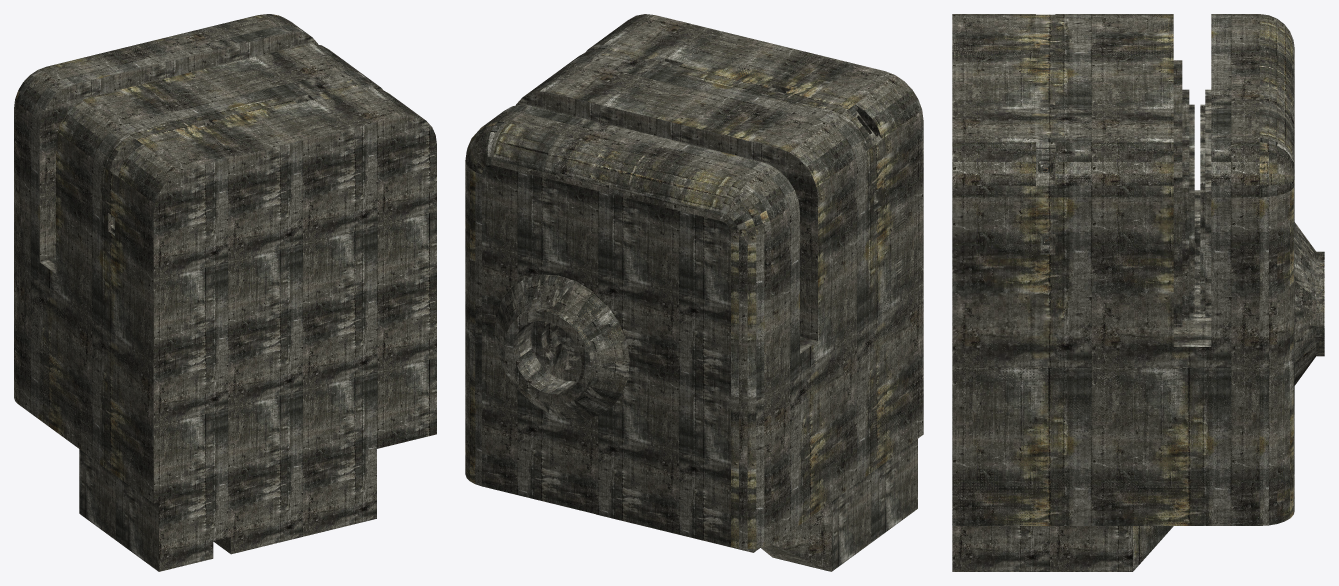
Rendered from Bunker.dae.
The picture shows the model from 3 angles, left to right: view 1: azimuth 30°, elevation 25°; view 2: azimuth 150°, elevation 25°; view 3: azimuth 270°, elevation 25°; orthographic projection. The views are drawn at different scales.
Parts seen in each view (by area): view 1: group_0 (×4); view 2: group_0 (×7); view 3: group_0 (×6).
Part boxes in pixels (box(x1,y1,x2,y2)): group_0 (×4): box(14, 14, 436, 571); group_0 (×7): box(465, 14, 923, 571); group_0 (×6): box(952, 14, 1324, 571).
Size of the model in its own units: 558 by 561 by 747.
Materials: 8 (7 with a texture image).
